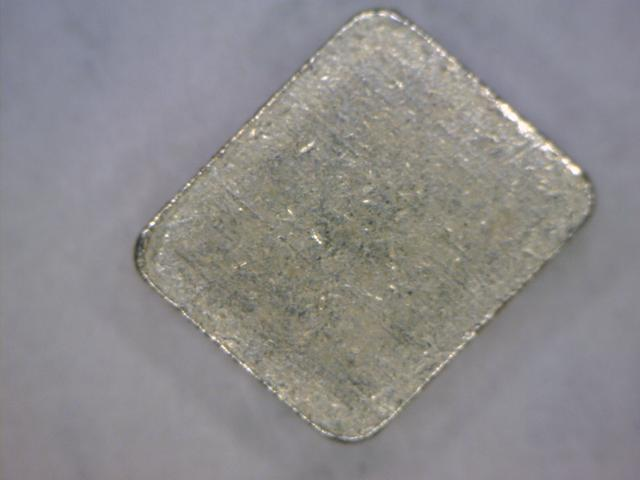ok: (132, 7, 610, 461)
